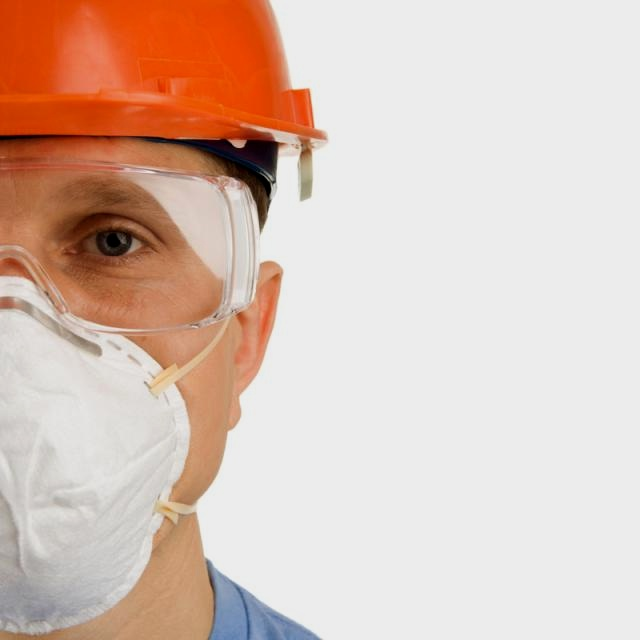goggles: (368, 162, 640, 326)
helmet: (310, 6, 640, 153)
